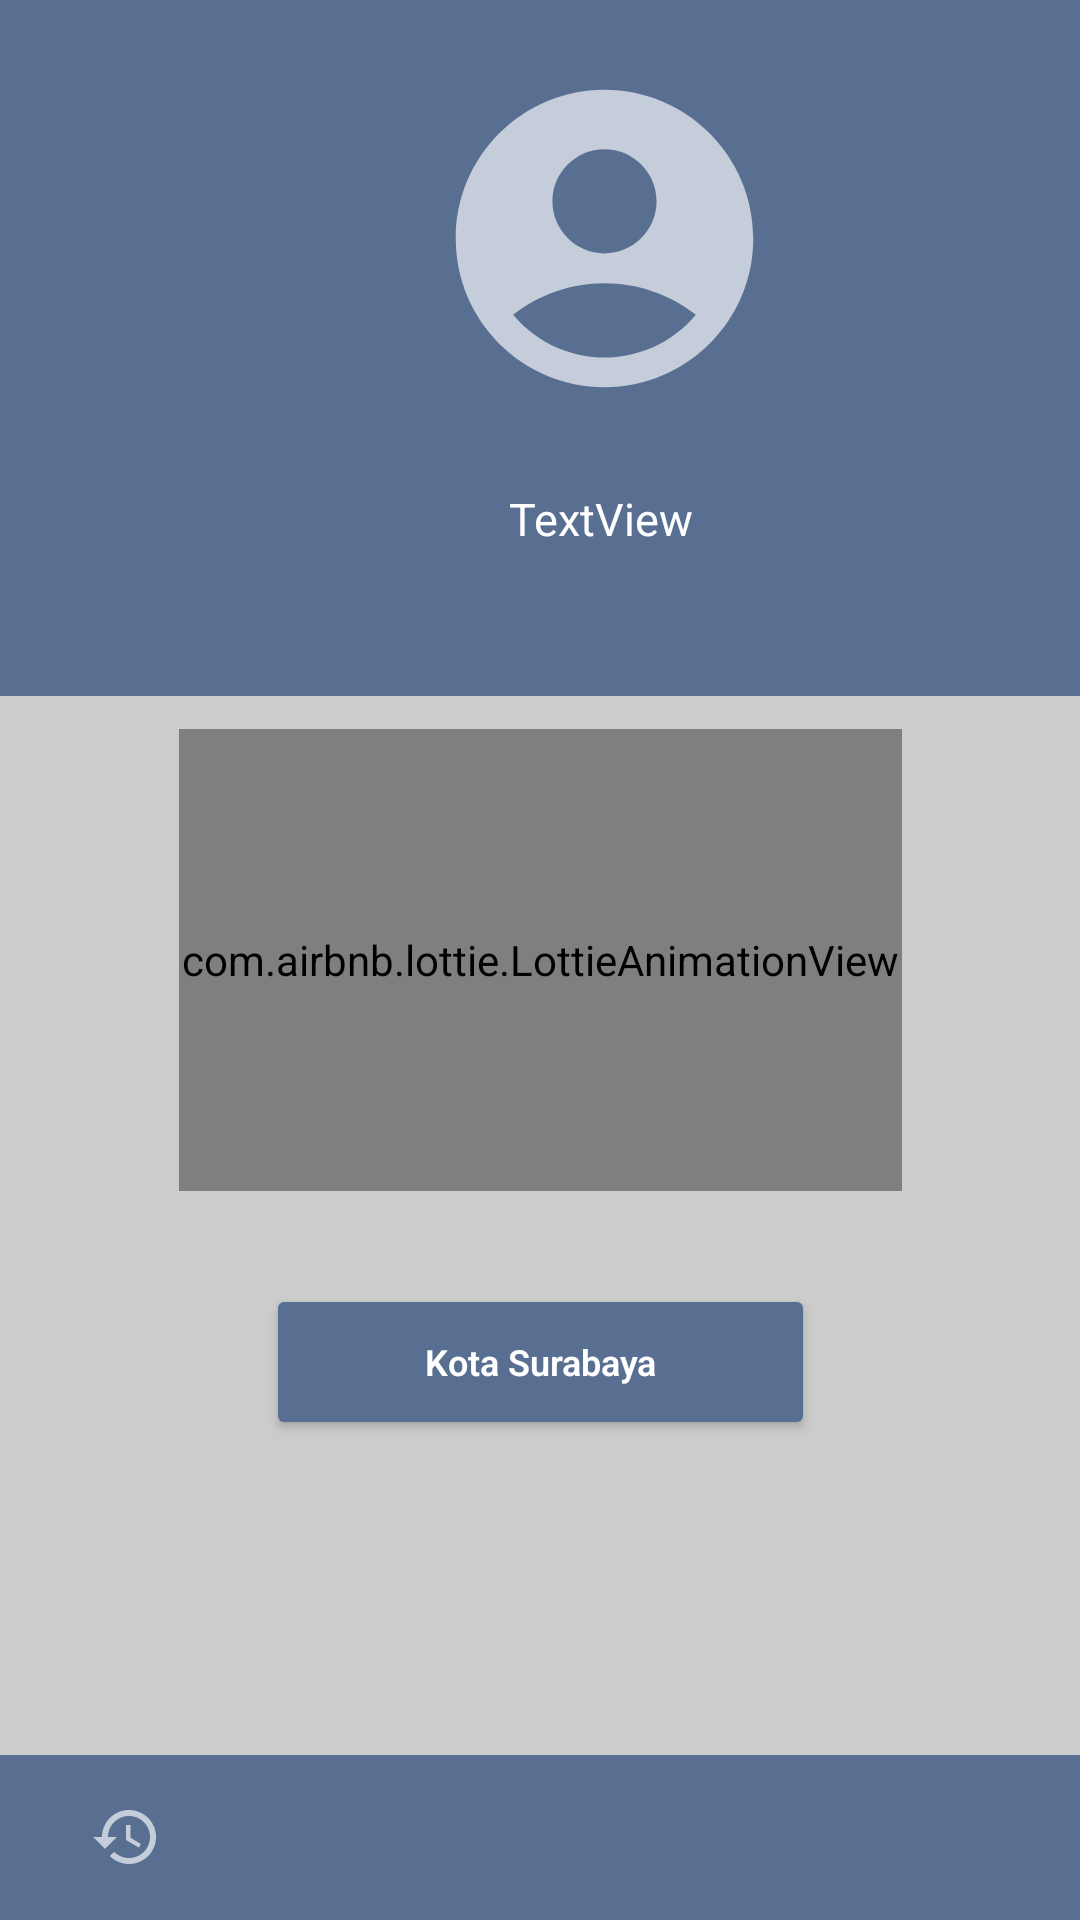

Screen size 1080px×1920px. Icon name, then its center in pixels as (x=x, y=y):
history: (x=124, y=1837)
user: (x=604, y=238)
